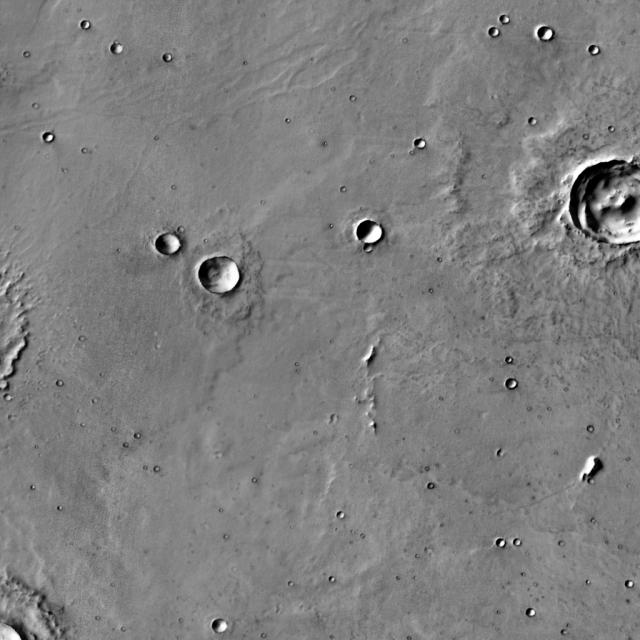crater: (574, 164, 640, 249), (202, 258, 244, 296), (360, 224, 388, 248), (159, 235, 184, 258), (541, 29, 557, 43), (217, 624, 231, 636), (114, 46, 127, 57), (491, 29, 503, 39), (593, 48, 604, 58), (503, 17, 513, 27), (418, 142, 428, 152), (48, 136, 58, 146), (366, 248, 376, 257), (508, 381, 518, 390), (531, 120, 541, 128), (499, 540, 509, 548), (85, 23, 94, 31), (629, 584, 638, 592), (340, 515, 349, 523), (528, 611, 538, 618), (167, 57, 176, 64), (7, 397, 15, 404), (517, 540, 525, 547), (499, 451, 507, 458), (332, 418, 339, 424)
